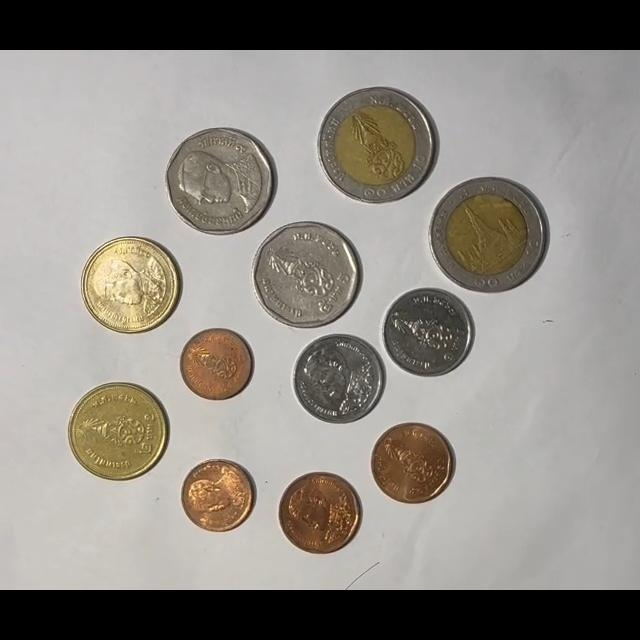1-baht: (292, 333, 385, 424), (381, 287, 473, 378)
10-baht: (317, 87, 437, 205), (429, 177, 548, 293)
2-baht: (68, 382, 169, 481), (81, 237, 179, 336)
25-satang: (181, 459, 256, 534), (180, 328, 253, 400)
5-baht: (165, 127, 276, 236), (252, 221, 361, 330)
50-satang: (277, 471, 362, 555), (371, 423, 454, 505)
